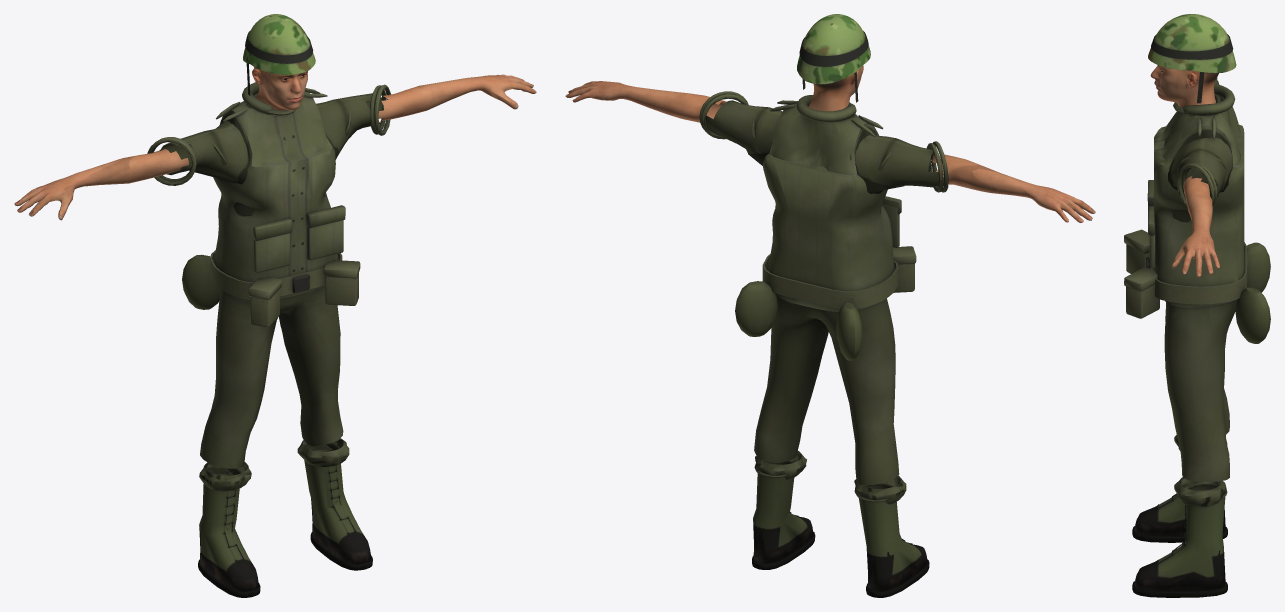
The model's file is marine-tpose.fbx.
3 views of the same model, side by side, from view 1: azimuth 30°, elevation 25°; view 2: azimuth 150°, elevation 25°; view 3: azimuth 270°, elevation 25° (orthographic).
Visible parts, largest first — view 1: Marine_Tpose; view 2: Marine_Tpose; view 3: Marine_Tpose.
Boxes of the visible parts, bbox=[...] form: Marine_Tpose: bbox=[14, 14, 536, 597]; Marine_Tpose: bbox=[565, 14, 1095, 597]; Marine_Tpose: bbox=[1124, 14, 1270, 597].
Bounding box in the file's own units: 1.84 × 1.85 × 0.4512.
Materials: 2 (2 with a texture image).
